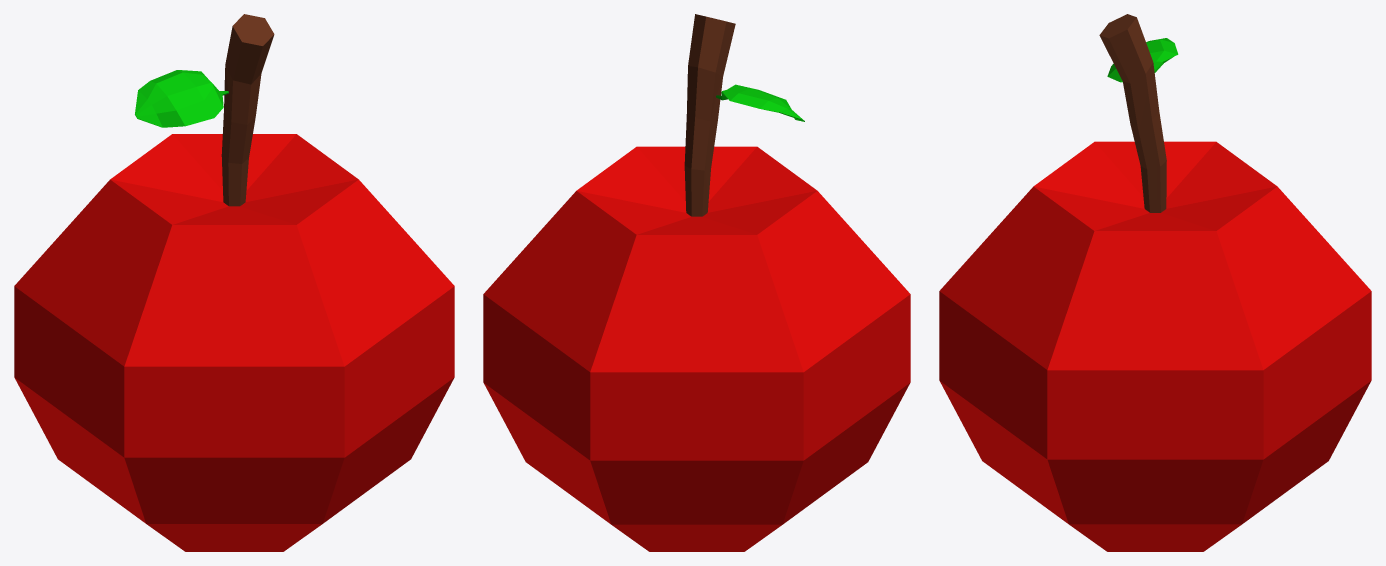
File: Apple.fbx
3 renders of one model, left to right at view 1: azimuth 30°, elevation 25°; view 2: azimuth 150°, elevation 25°; view 3: azimuth 270°, elevation 25°, orthographic. The views are drawn at different scales.
Parts seen in each view (by area): view 1: Apple; view 2: Apple; view 3: Apple.
Boxes of the visible parts, x1=… form: Apple: x1=14, y1=14, x2=454, y2=551; Apple: x1=483, y1=14, x2=910, y2=551; Apple: x1=939, y1=14, x2=1371, y2=551.
Size of the model in its own units: 46.44 by 68.38 by 53.62.
